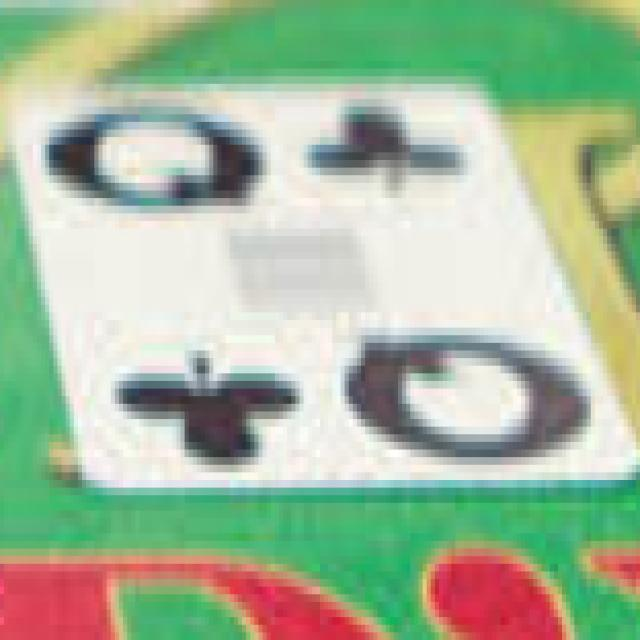Card-Q: (12, 84, 638, 482)
